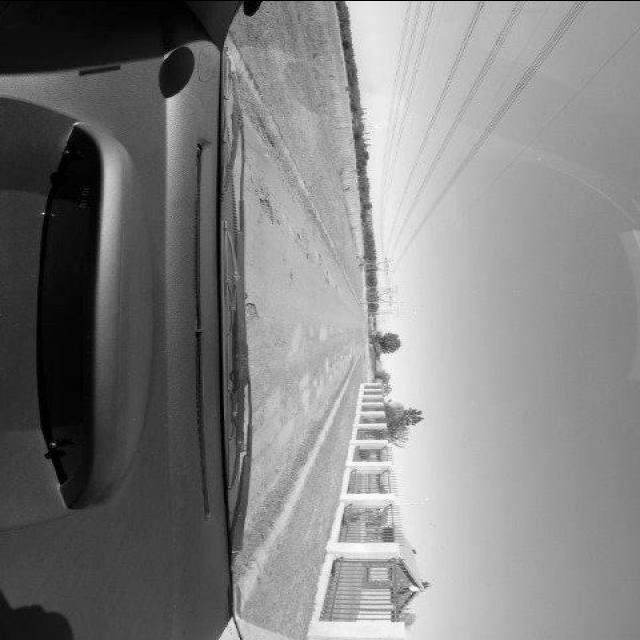lubang: (246, 300, 266, 350), (254, 188, 278, 228), (286, 320, 310, 358), (296, 370, 314, 418), (255, 360, 278, 392), (252, 401, 274, 428), (315, 322, 332, 342), (321, 268, 335, 288), (324, 356, 334, 374), (302, 249, 314, 263)
